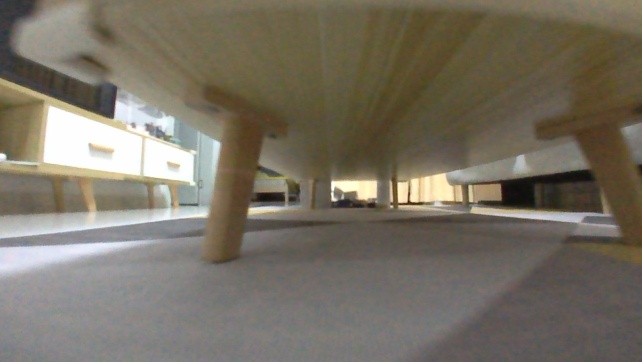TV_stand1: (0, 78, 199, 214)
blanket: (0, 200, 641, 361)
